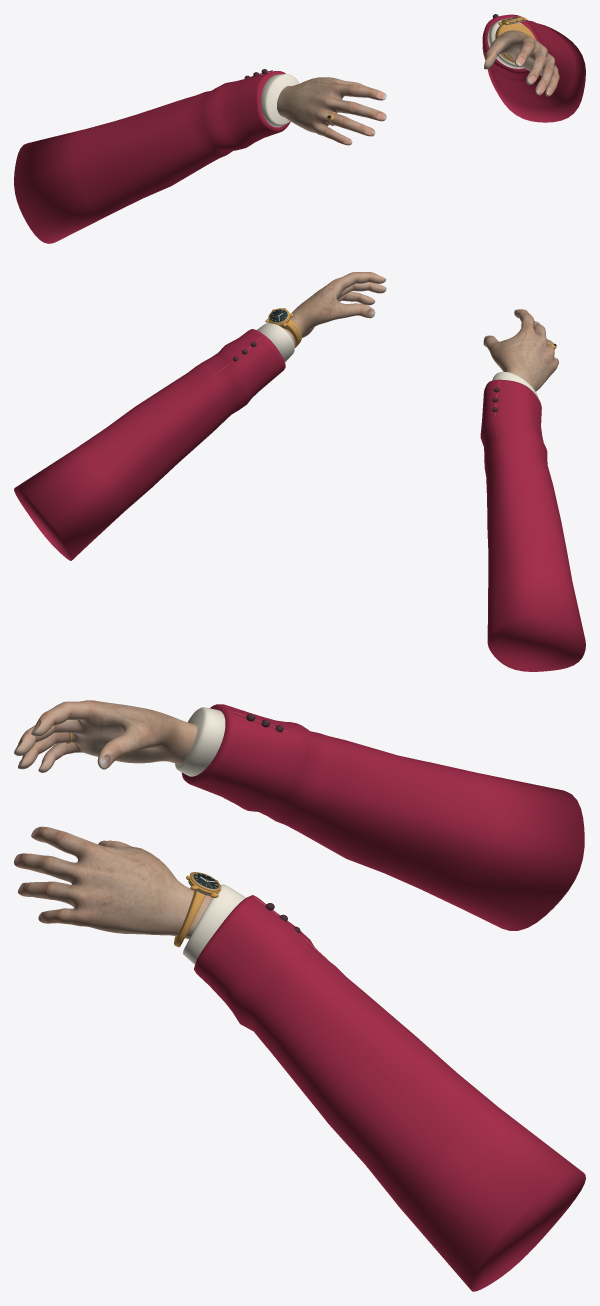
Rendered from fps_hands_bare.glb.
The picture shows the model from 3 angles, top to bottom: view 1: azimuth 30°, elevation 25°; view 2: azimuth 150°, elevation 25°; view 3: azimuth 270°, elevation 25°; orthographic projection. The views are drawn at different scales.
Parts seen in each view (by area): view 1: Right, Left; view 2: Left, Right; view 3: Left, Right.
Part boxes in pixels (x1,y1,x2,y2): Right: [14, 69, 386, 243]; Left: [482, 14, 585, 122]; Left: [14, 272, 386, 560]; Right: [480, 309, 585, 671]; Left: [14, 826, 585, 1291]; Right: [14, 700, 584, 930].
Bounding box in the file's own units: 0.9111 × 0.3359 × 0.5183.
Materials: 10 (1 with a texture image).
